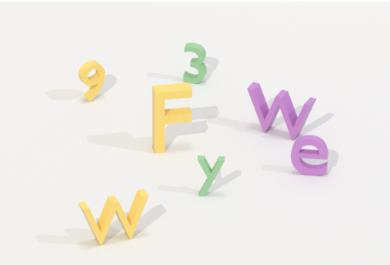3: (180, 37, 210, 89)
9: (76, 58, 110, 106)
F: (148, 81, 197, 156)
W: (75, 184, 152, 249), (244, 80, 319, 141)
e: (288, 133, 332, 180)
y: (193, 151, 229, 199)
